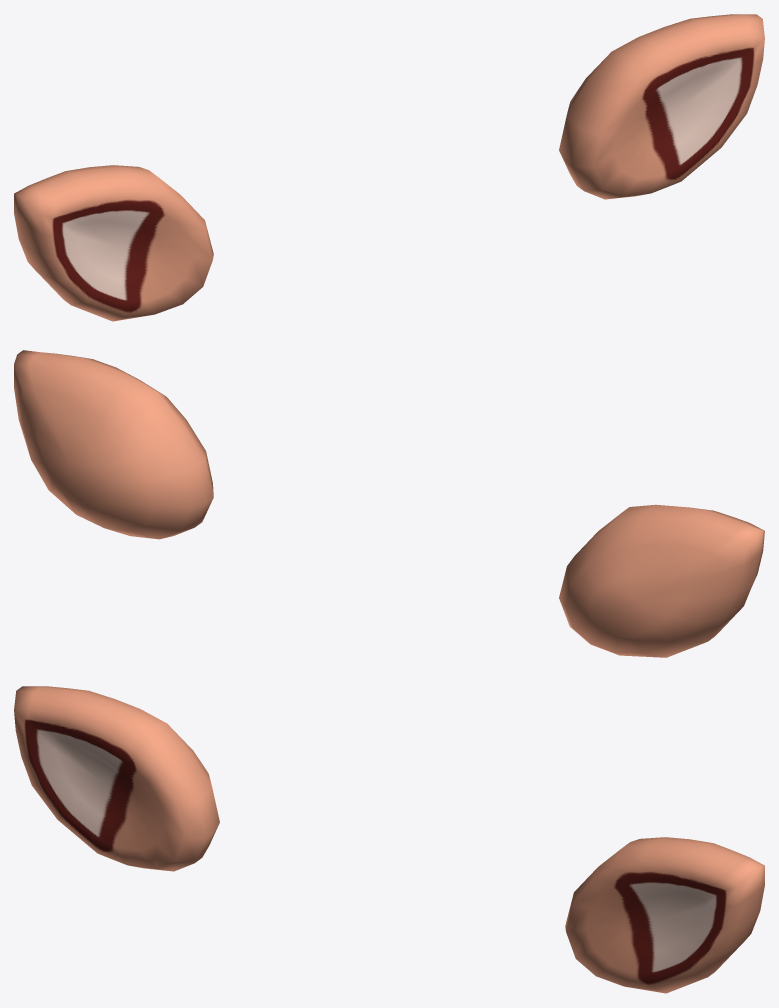
File: Ears_06.fbx
3 renders of one model, top to bottom at view 1: azimuth 30°, elevation 25°; view 2: azimuth 150°, elevation 25°; view 3: azimuth 330°, elevation 25°, orthographic.
Visible parts, largest first — view 1: Ears_06; view 2: Ears_06; view 3: Ears_06.
Boxes of the visible parts, <box> form: Ears_06: <box>14,14,764,321</box>; Ears_06: <box>14,350,764,657</box>; Ears_06: <box>14,686,764,993</box>.
Bounding box in the file's own units: 139 × 27.53 × 17.29.
Materials: 1 (1 with a texture image).
